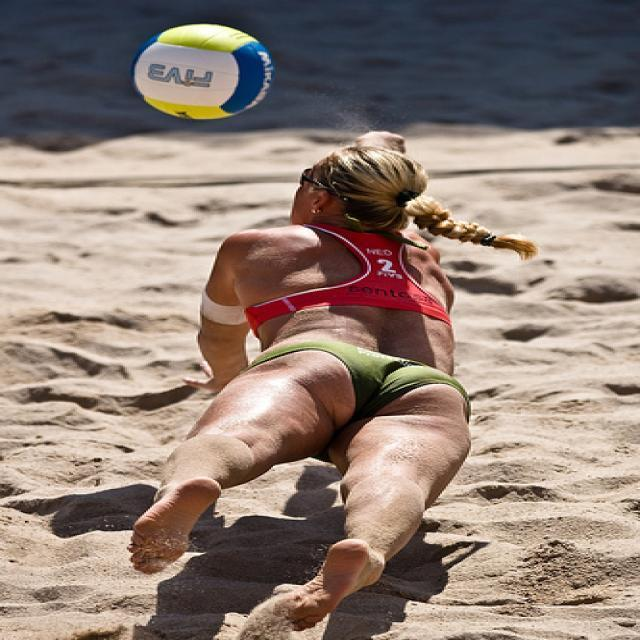volleyball: (130, 24, 274, 120)
